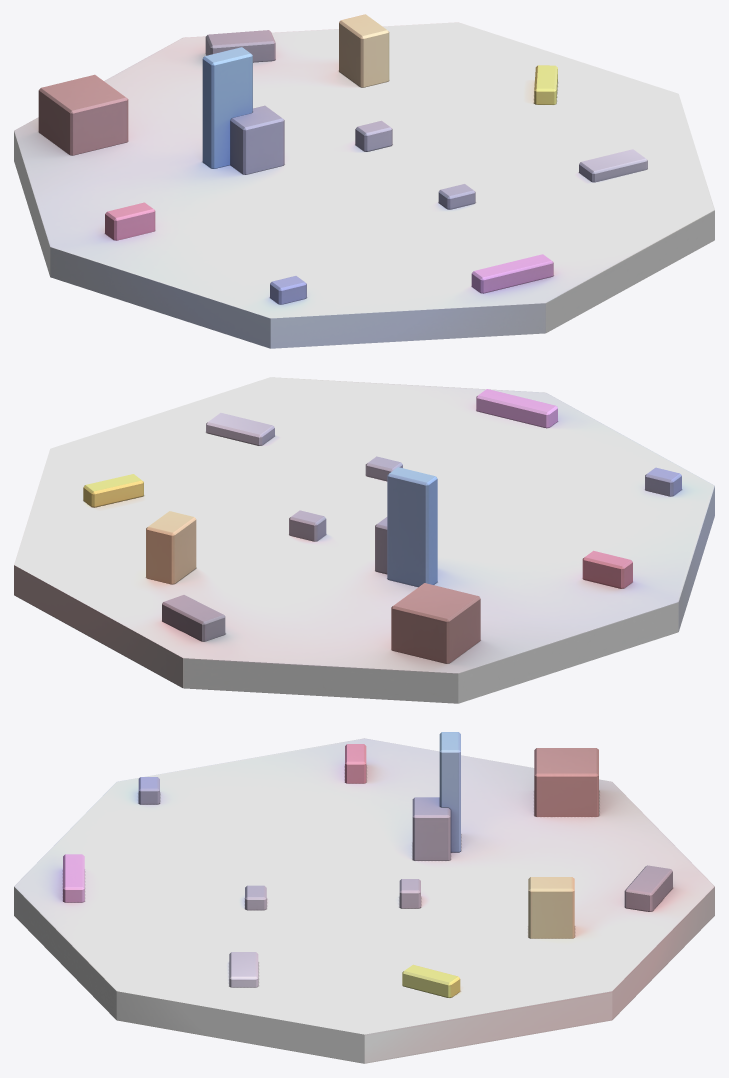
File: map.glb
3 renders of one model, top to bottom at view 1: azimuth 30°, elevation 25°; view 2: azimuth 150°, elevation 25°; view 3: azimuth 270°, elevation 25°, orthographic. The views are drawn at different scales.
Visible parts, largest first — view 1: Cube.012; view 2: Cube.012; view 3: Cube.012.
Boxes of the visible parts, x1,y1,x2,y2 form: Cube.012: [14, 14, 714, 348]; Cube.012: [14, 377, 714, 703]; Cube.012: [14, 732, 714, 1063].
Size of the model in its own units: 65.53 by 13.53 by 65.53.
1 material, 1 textured.
